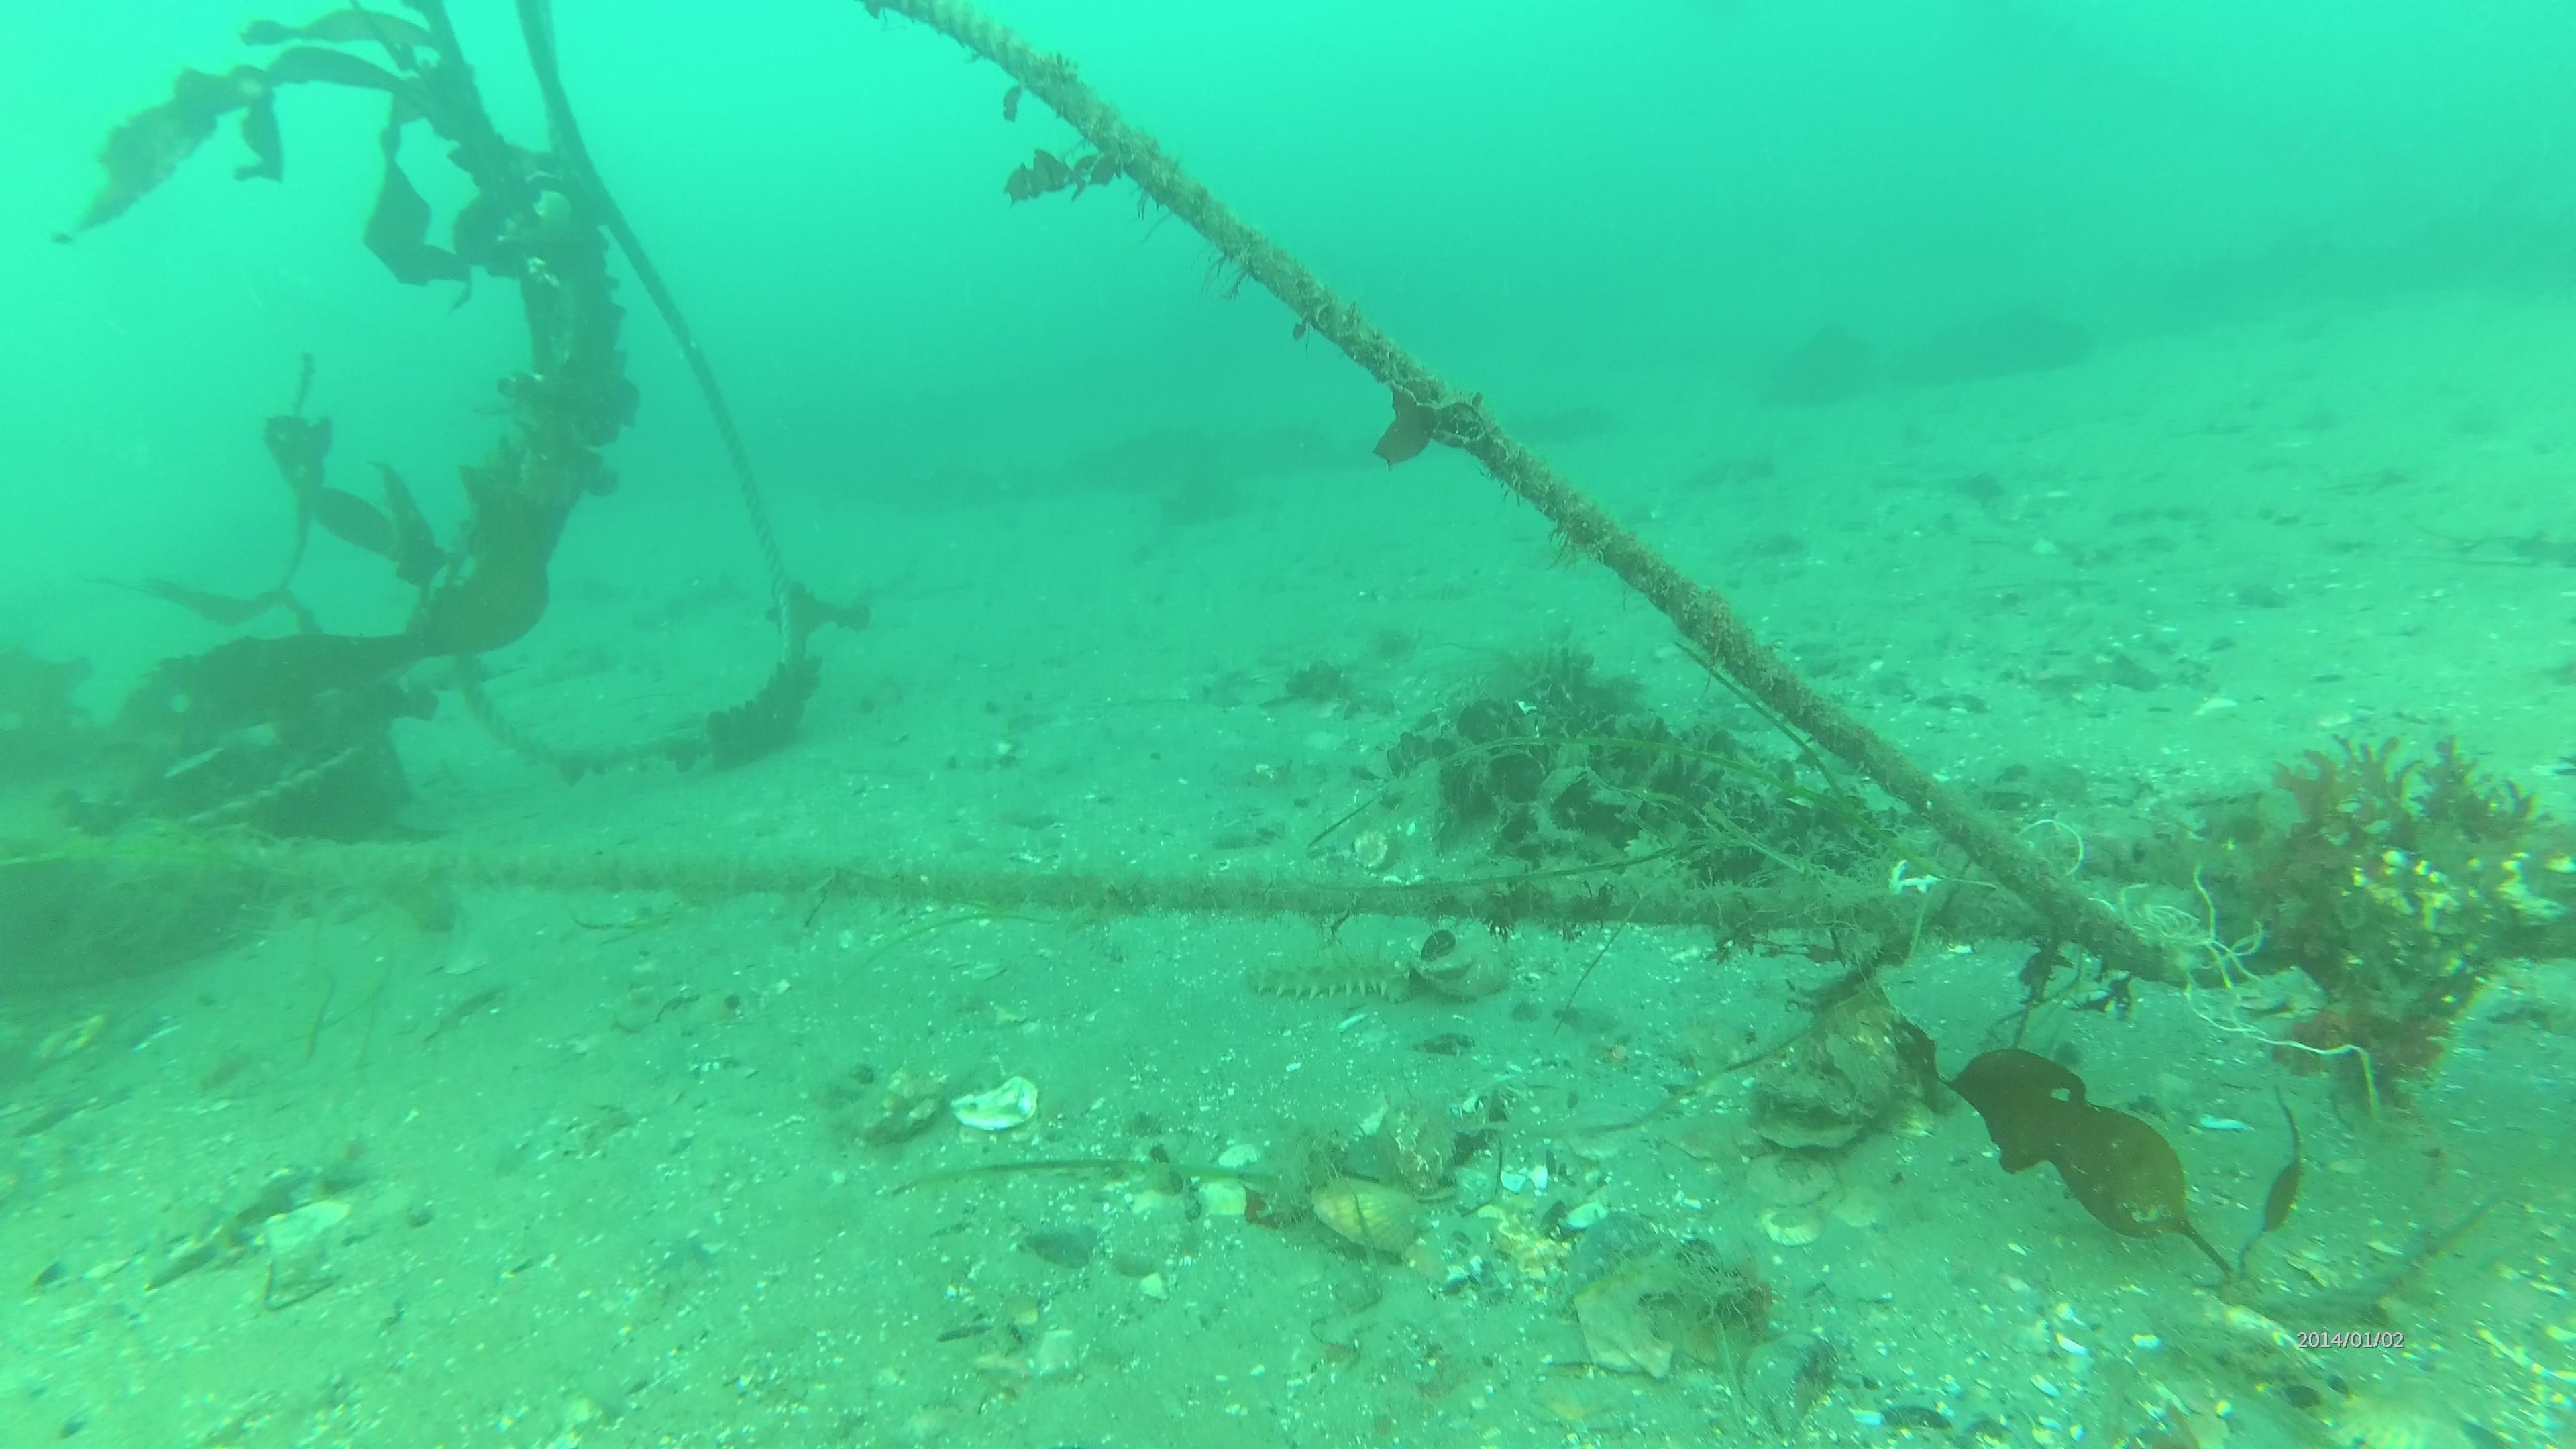holothurian: (1249, 943, 1414, 1008)
scallop: (1306, 1169, 1428, 1265)
